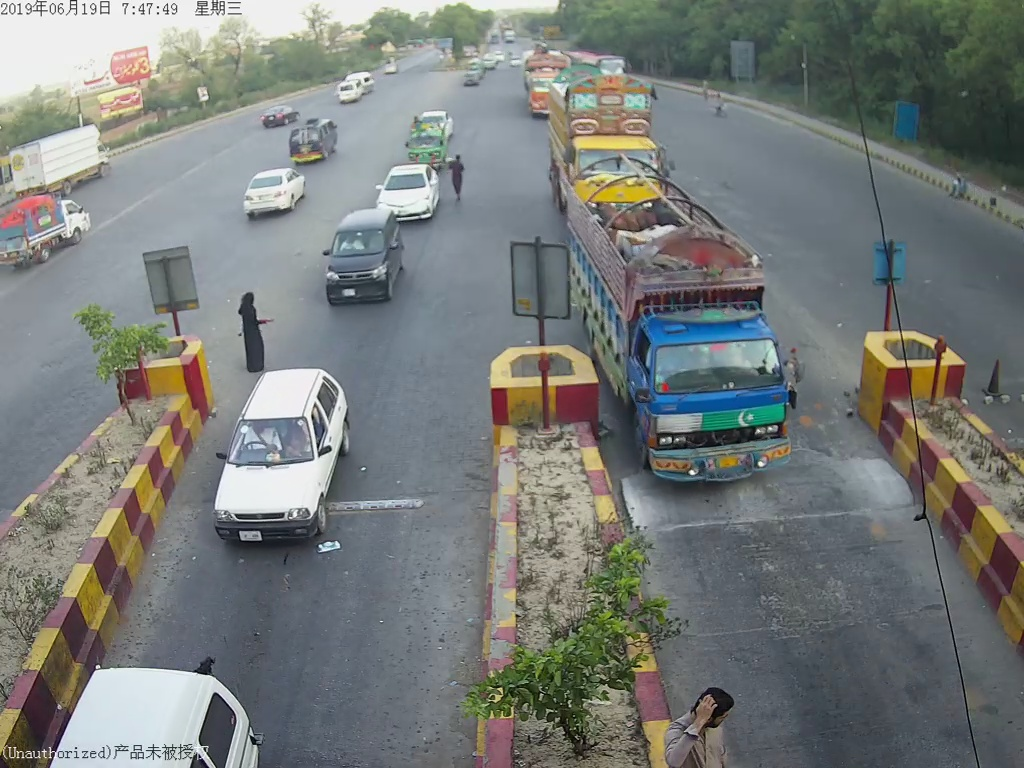Cat-1: (208, 358, 357, 541), (322, 208, 408, 306), (373, 161, 443, 223), (400, 120, 453, 168)
Cat-2: (564, 168, 815, 481)
